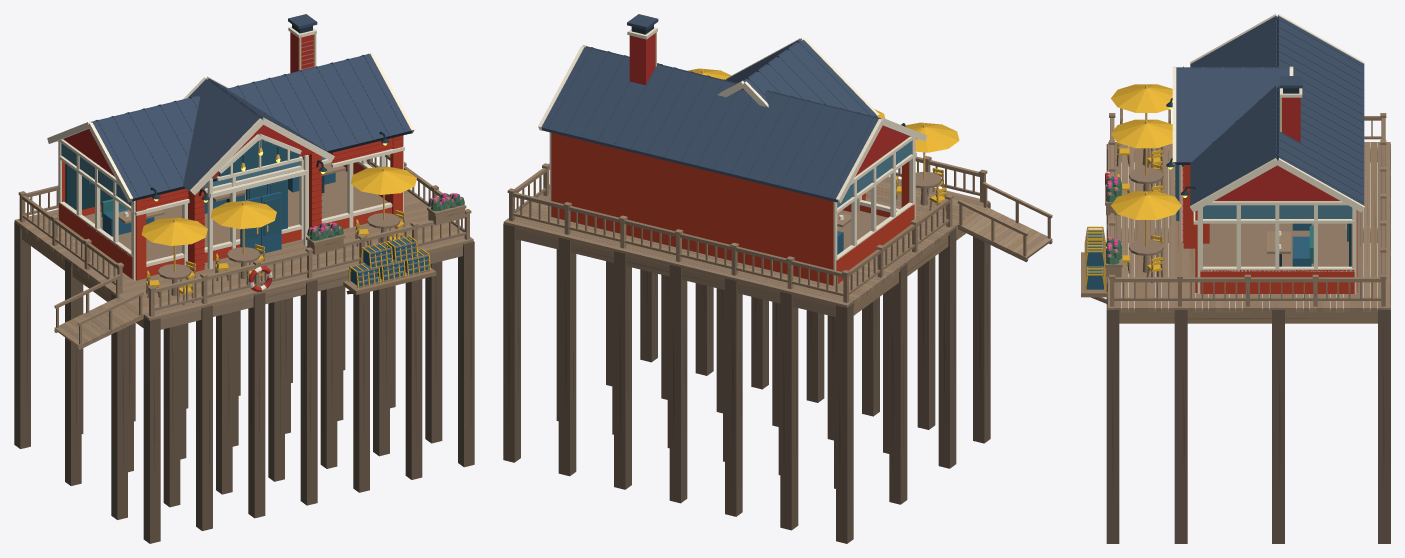
File: red_net_kitchen.glb
3 views of the same model, side by side, from view 1: azimuth 30°, elevation 25°; view 2: azimuth 150°, elevation 25°; view 3: azimuth 270°, elevation 25° (orthographic). The views are drawn at different scales.
Visible parts, largest first — view 1: red_net_kitchen; view 2: red_net_kitchen; view 3: red_net_kitchen.
Part boxes in pixels (left/top/right/bottom): red_net_kitchen: left=14, top=14, right=474, bottom=543; red_net_kitchen: left=503, top=14, right=1052, bottom=543; red_net_kitchen: left=1081, top=14, right=1390, bottom=543.
Bounding box in the file's own units: 16.82 × 16.53 × 11.05.
